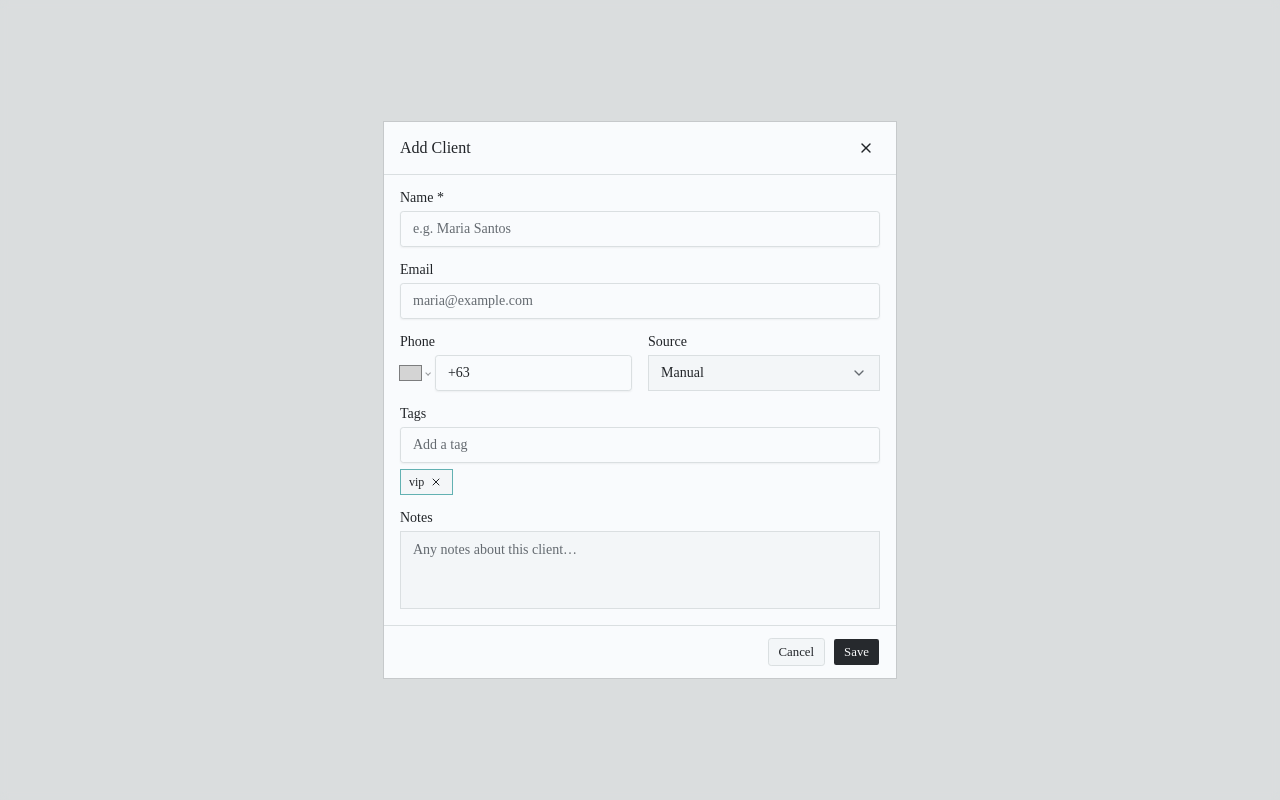
Test: ClientFormModal › removes a tag when remove button is clicked
Expected: the text "vip" is shown, [409,474,424,490]
Click the button named "remove tag vip". click: (436,482)
box: [428,474,444,490]
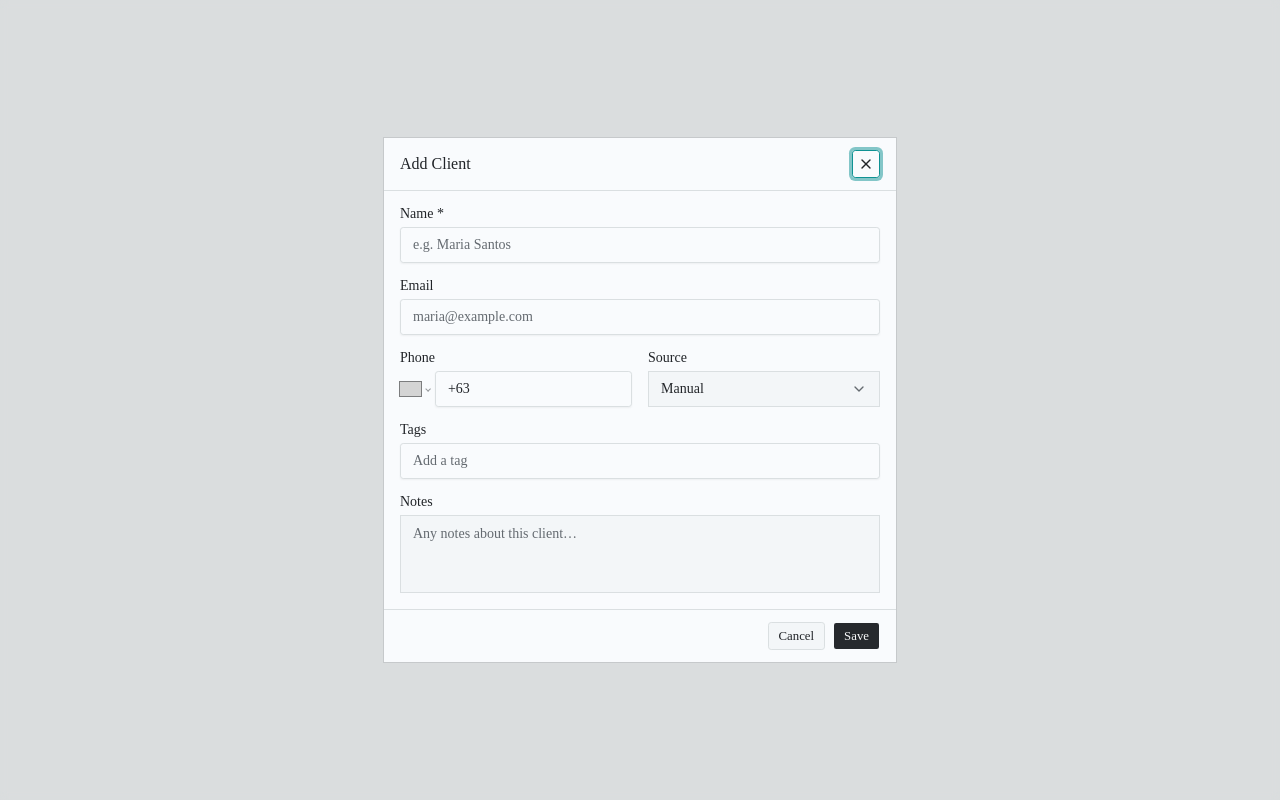
Expected: the text "vip" is gone
